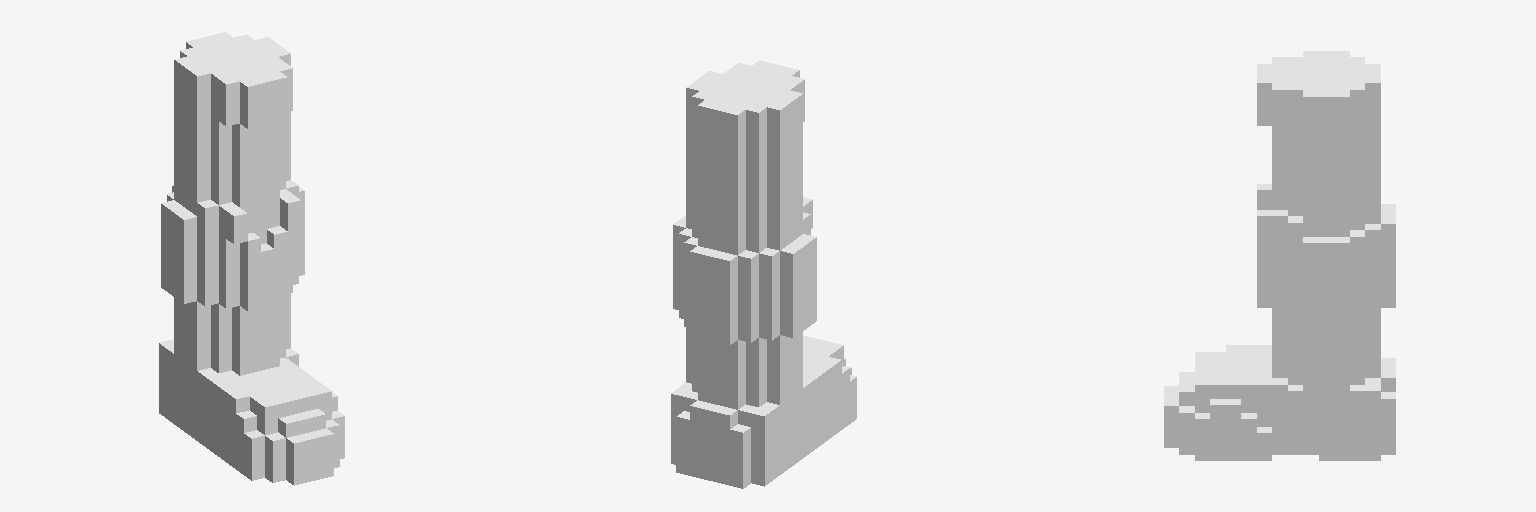
Rendered from Hero-11.obj.
3 renders of one model, left to right at view 1: azimuth 30°, elevation 25°; view 2: azimuth 150°, elevation 25°; view 3: azimuth 270°, elevation 25°, orthographic.
Parts seen in each view (by area): view 1: object 1; view 2: object 1; view 3: object 1.
Boxes of the visible parts, box(x1,y1,x2,y2) form: object 1: box(159, 32, 344, 485); object 1: box(671, 60, 856, 488); object 1: box(1164, 51, 1395, 460).
Size of the model in its own units: 0.9 by 2.6 by 1.5.